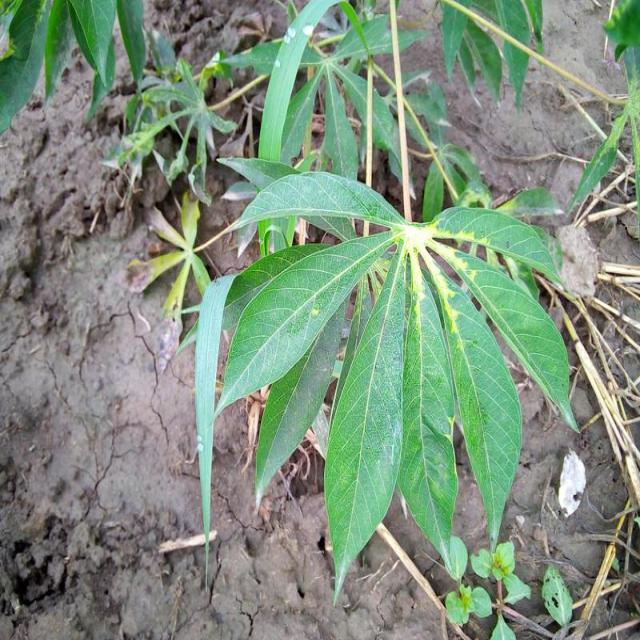cassava leaf: (196, 166, 578, 605)
